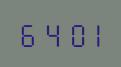four: (39, 20, 59, 47)
one: (81, 20, 101, 47)
six: (18, 20, 38, 47)
zero: (60, 20, 80, 47)
